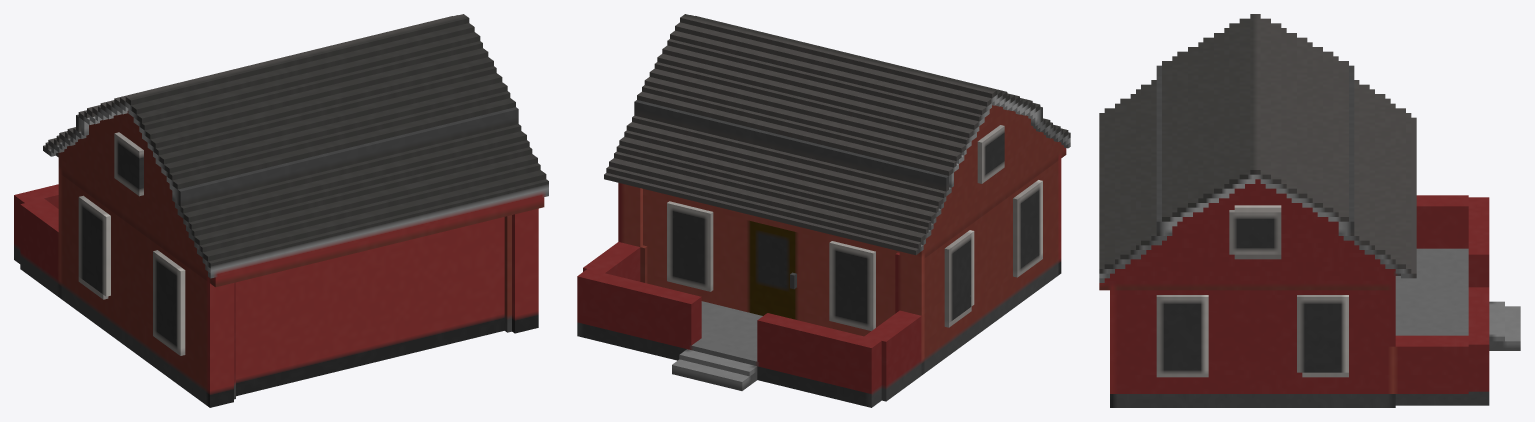
The model's file is House_01.fbx.
3 views of the same model, side by side, from view 1: azimuth 30°, elevation 25°; view 2: azimuth 150°, elevation 25°; view 3: azimuth 270°, elevation 25° (orthographic). The views are drawn at different scales.
Visible parts, largest first — view 1: House_01; view 2: House_01; view 3: House_01.
Boxes of the visible parts, left/top/right/bottom form: House_01: left=14, top=14, right=548, bottom=407; House_01: left=577, top=14, right=1070, bottom=407; House_01: left=1099, top=14, right=1520, bottom=407.
Size of the model in its own units: 71 by 51 by 81.
